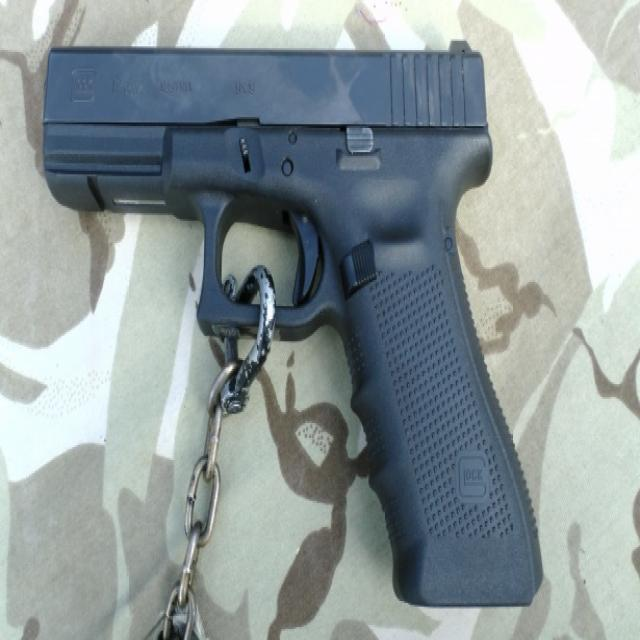gun: (22, 34, 575, 624)
